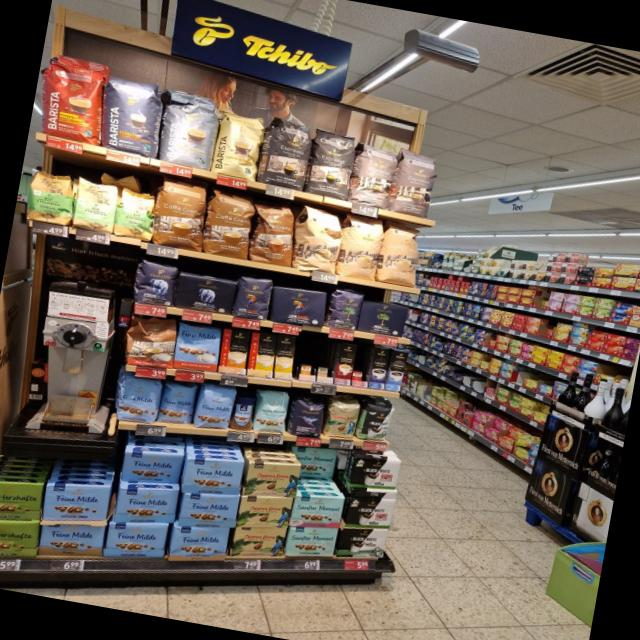AB Bohne: (129, 257, 180, 308)
AB Gemahlen: (175, 272, 238, 316)
Athiopien Bohne: (22, 162, 78, 228), (114, 184, 159, 240)
Athiopien Gemahlen: (67, 176, 120, 234)
BM Bohne: (326, 286, 363, 332)
BM Gemahlen: (358, 298, 408, 338)
BW Bohne: (355, 400, 396, 444)
BW Gemahlen: (348, 455, 403, 491), (342, 496, 396, 530), (335, 527, 389, 559)
Barista CB: (209, 106, 267, 182)
Barista CC: (156, 96, 222, 170)
Barista Espresso: (98, 72, 169, 158)
Barista Kolumbien: (34, 58, 112, 144)
C Fino Bohne: (288, 395, 328, 440)
CC Mild: (290, 203, 346, 275), (336, 212, 387, 282), (375, 220, 427, 288)
CC Vollmundig 36 Pads: (150, 175, 213, 252), (200, 187, 258, 260), (247, 200, 300, 268), (120, 314, 180, 372)
Colombia BB Bohne: (322, 398, 360, 441)
Colombia BB Gemahlen: (244, 461, 302, 498), (237, 496, 294, 528), (230, 527, 288, 558)
Espresso Aromatisch: (388, 145, 440, 219), (348, 138, 400, 208)
Espresso S Art: (304, 122, 360, 200), (262, 114, 316, 190)
FM 36 Pads: (172, 322, 224, 374)
FM Bohne: (114, 374, 162, 425), (194, 382, 236, 432), (158, 381, 198, 426)
FM Gemahlen: (42, 483, 111, 521), (112, 487, 180, 524), (182, 456, 245, 495), (103, 523, 169, 558), (179, 492, 241, 529), (39, 522, 106, 556), (121, 449, 185, 484), (167, 525, 230, 560)
FM Instant: (230, 394, 257, 432)
Herzhatfe Mundig: (0, 481, 45, 521), (0, 520, 41, 559)
LG Bohne: (232, 272, 275, 322)
LG Gemahlen: (266, 285, 328, 330)
SM Bohne: (250, 388, 292, 438)
SM Gemahlen: (289, 494, 346, 528), (285, 526, 339, 558)
Simo CCMild: (247, 332, 276, 377)
Simo CCVollmundig: (218, 328, 250, 374)
Simo Es Caramel: (334, 342, 357, 385)
Simo Es Kraft: (368, 348, 391, 390)
Simo Es Vanilla: (385, 350, 409, 391)
